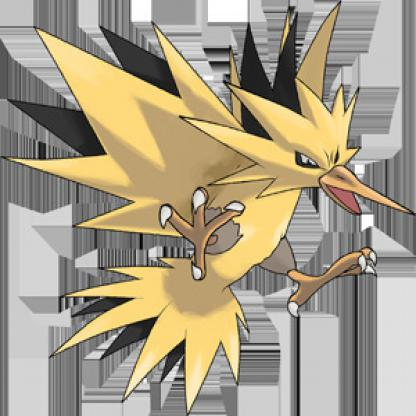Zapdos: (17, 1, 416, 416)
